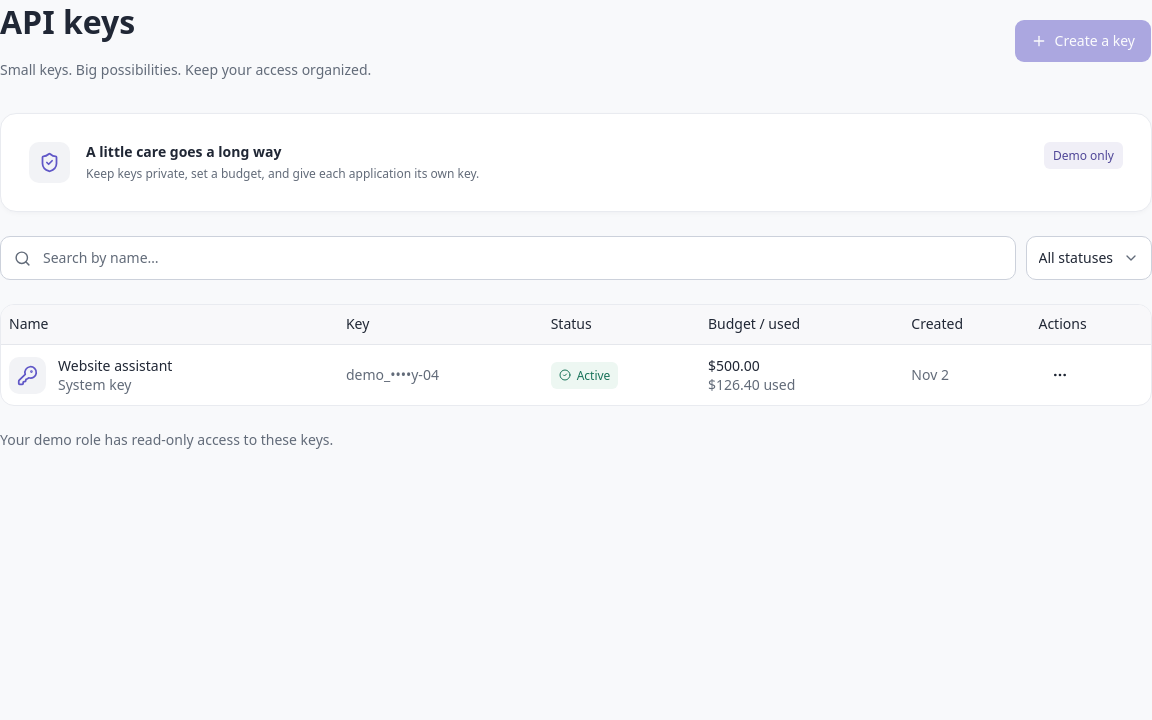
Test: Client key management preview › member role cannot create or edit another workspace key
Expected: the button "Create a key" is disabled, [1014,19,1151,63]
Click the button named "Manage Website assistant" at (1060, 375), box [1038,353,1082,397]
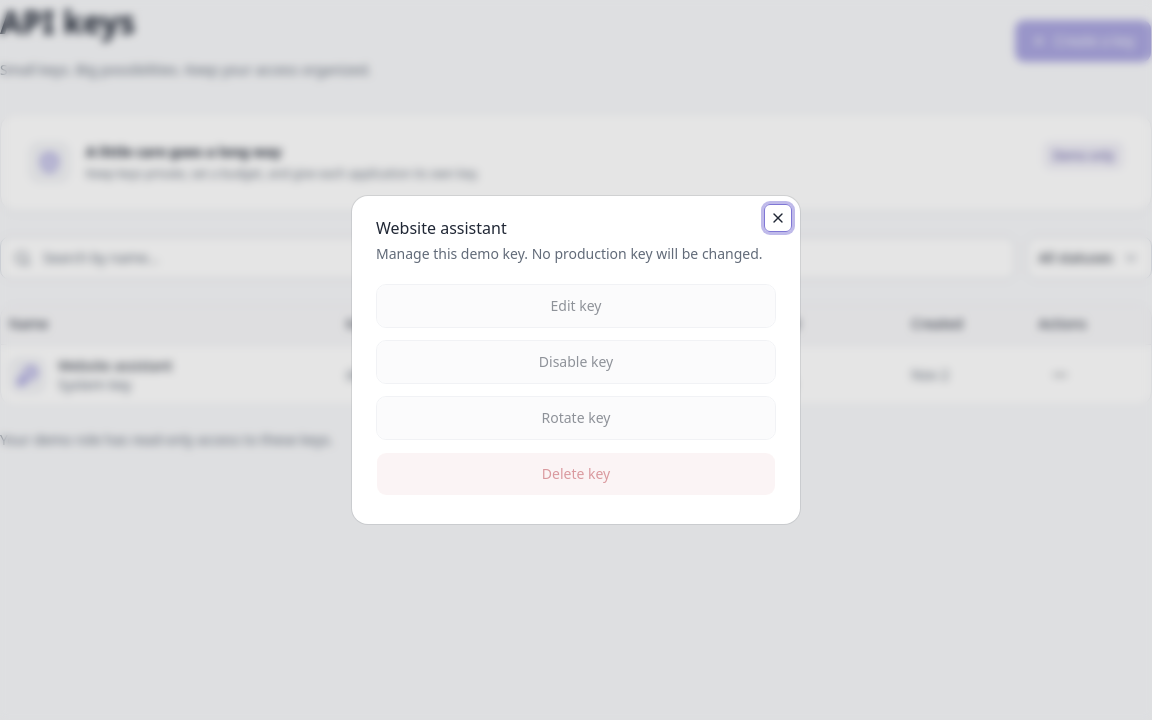
Expected: the button "Edit key" is disabled, [376,284,776,328]
Expected: the button "Delete key" is disabled, [376,452,776,496]
